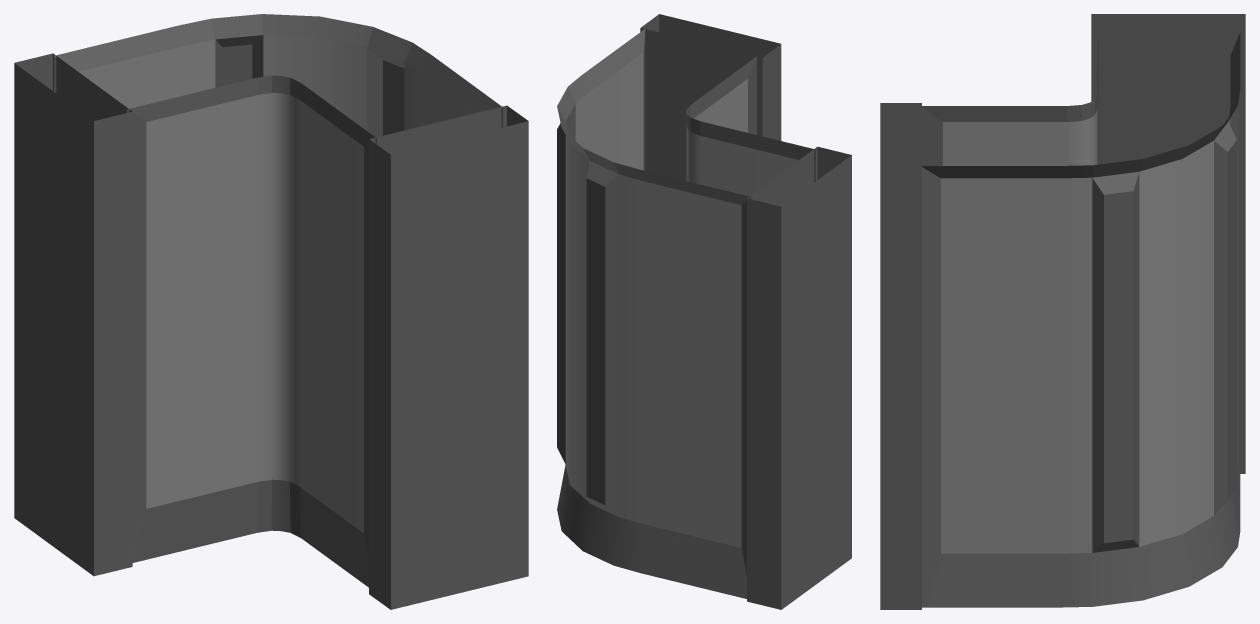
File: Metal_Barrier_Wall_Corner_Inside.fbx
The picture shows the model from 3 angles, left to right: view 1: azimuth 30°, elevation 25°; view 2: azimuth 150°, elevation 25°; view 3: azimuth 270°, elevation 25°; orthographic projection. The views are drawn at different scales.
Visible parts, largest first — view 1: Metal_Barrier_Wall_Corner_Inside; view 2: Metal_Barrier_Wall_Corner_Inside; view 3: Metal_Barrier_Wall_Corner_Inside.
Part boxes in pixels (x1=…): Metal_Barrier_Wall_Corner_Inside: x1=14, y1=14, x2=528, y2=609; Metal_Barrier_Wall_Corner_Inside: x1=557, y1=14, x2=851, y2=609; Metal_Barrier_Wall_Corner_Inside: x1=880, y1=14, x2=1245, y2=609.
Bounding box in the file's own units: 150 × 200 × 150.
